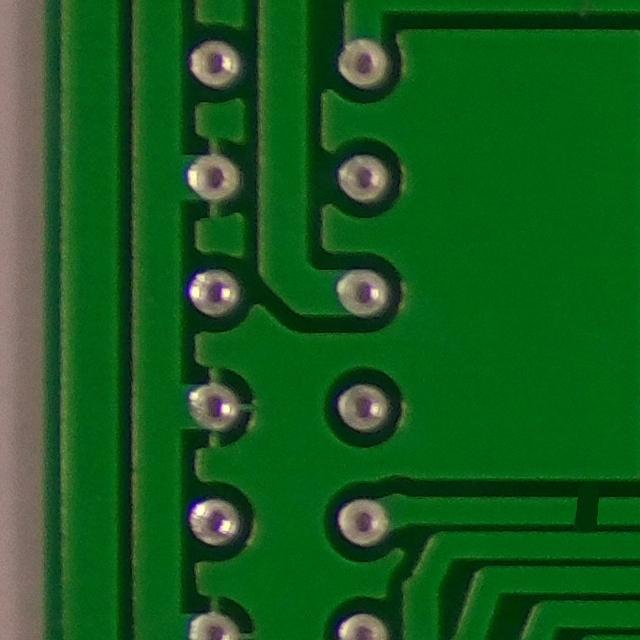open_circuit: (550, 481, 611, 539)
